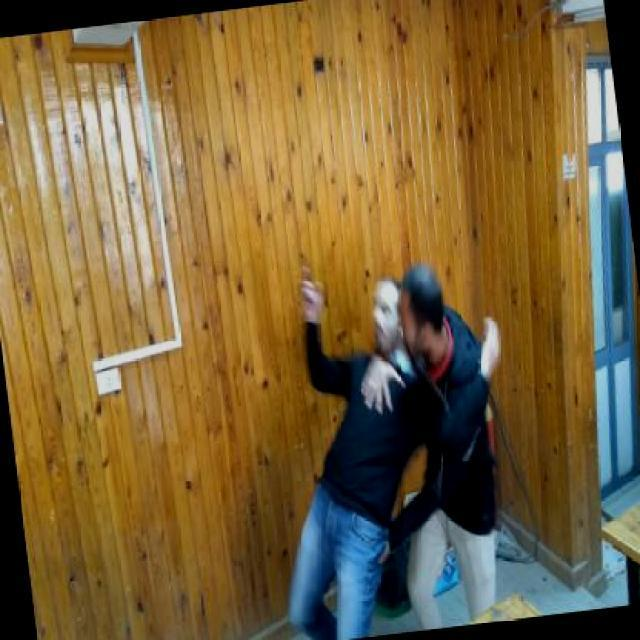fight: (258, 238, 526, 567)
